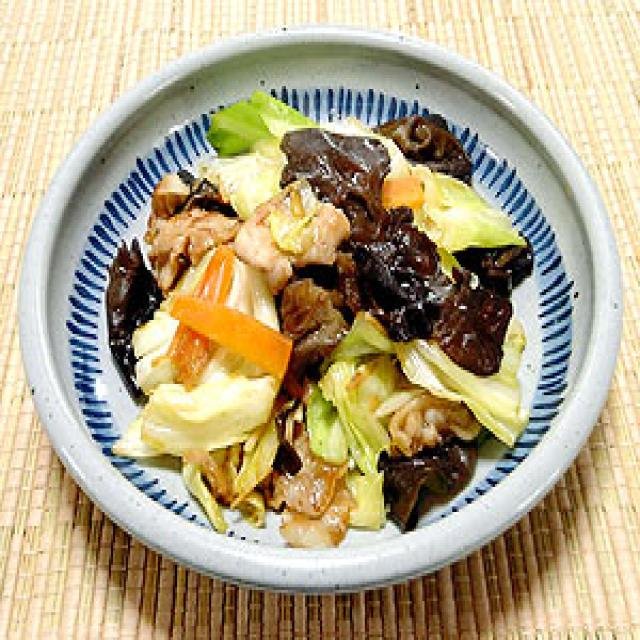蔬菜料理: (73, 81, 576, 545)
